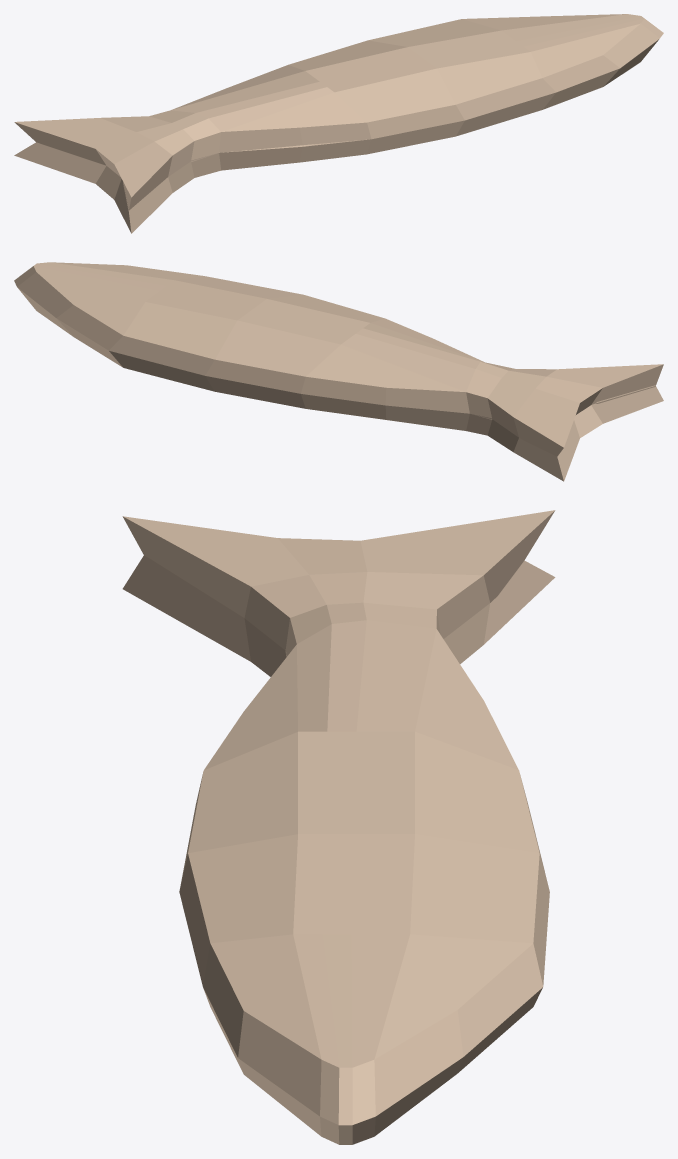
The model's file is Fish.fbx.
3 views of the same model, one above another, from view 1: azimuth 30°, elevation 25°; view 2: azimuth 150°, elevation 25°; view 3: azimuth 270°, elevation 25° (orthographic). The views are drawn at different scales.
Parts seen in each view (by area): view 1: Cube; view 2: Cube; view 3: Cube.
Part boxes in pixels (x1,y1,x2,y2): Cube: [14, 14, 663, 233]; Cube: [14, 262, 663, 481]; Cube: [122, 510, 555, 1144].
Bounding box in the file's own units: 463 × 46.02 × 146.
